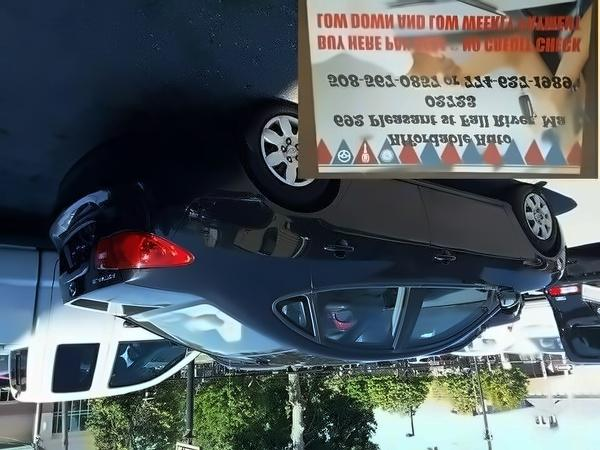Car boot: (50, 224, 221, 314)
Fender - -F-L-: (497, 183, 570, 300)
Fender - -R-L-: (205, 93, 355, 303)
Passenger-s door - -F-L-: (390, 173, 523, 367)
Passenger-s door - -R-L-: (282, 168, 428, 365)
Rear bumper: (47, 116, 255, 258)
Rear light - -L-: (92, 229, 194, 271)
Side mirror - -L-: (492, 283, 522, 314)
